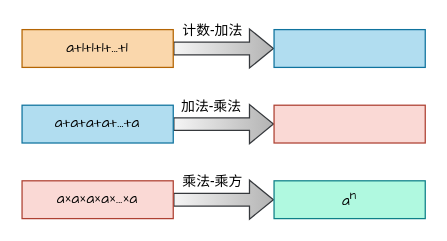
The diagram is 447 pixels wide and 241 high, and some of its shapes have lost their labels. Here are the shapes that lost their labels. From the top down, the centre of each, then its label:
point (349, 47): a+n
point (349, 123): a×n
